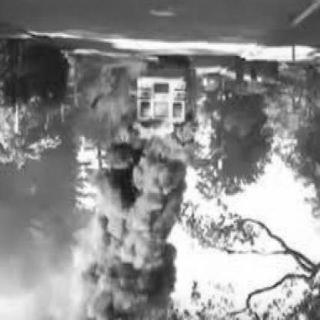Fire: (141, 128, 170, 162)
Smoke: (77, 146, 191, 318)
other: (137, 73, 186, 124)
